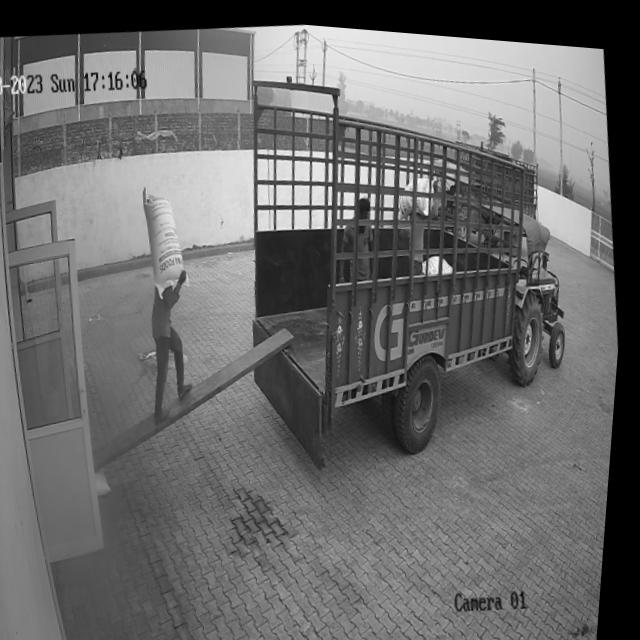sack: (138, 178, 196, 298)
